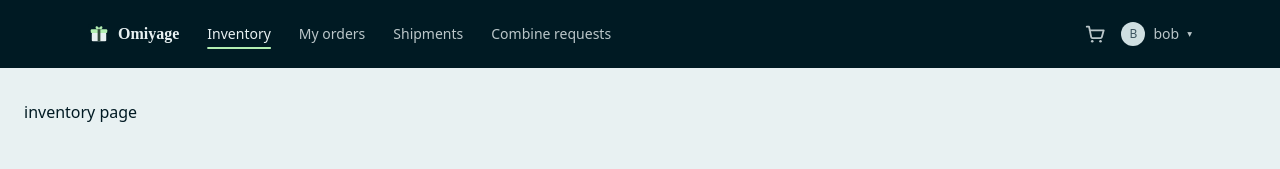
it: Layout account menu › opens Profile and Log out from a dropdown under the nickname
Click the text "bob".
click(1166, 34)  # box x1=1154 y1=24 x2=1179 y2=44
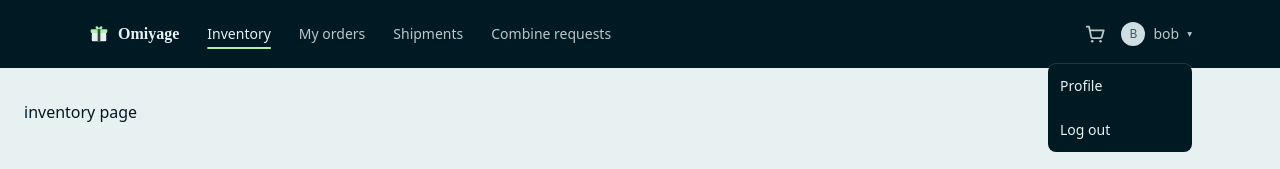
Expected: the link "Profile" is shown, x1=1060 y1=76 x2=1102 y2=95
Expected: the button "Log out" is shown, x1=1048 y1=108 x2=1192 y2=152
